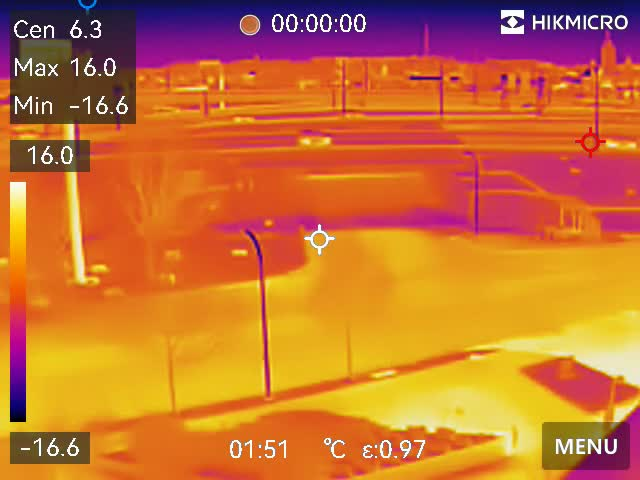vehicle: (291, 128, 335, 148), (599, 132, 635, 152), (229, 110, 260, 124)
